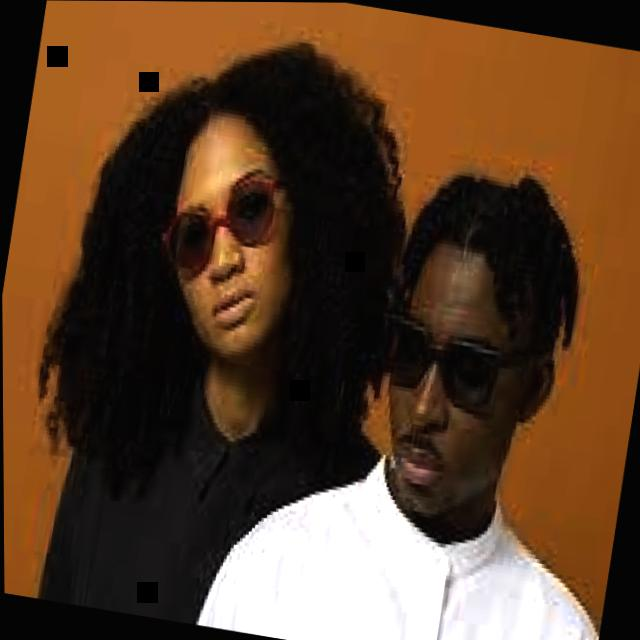NO-Mask: (365, 264, 538, 534), (152, 122, 312, 370)
